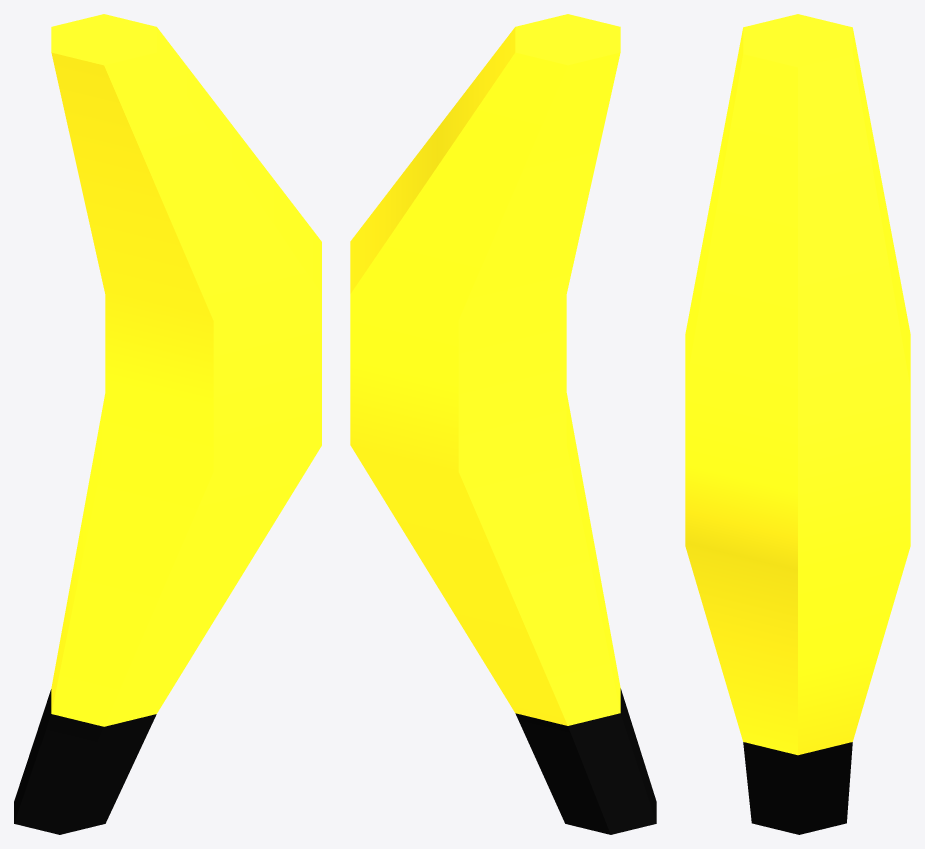
Rendered from Banana.fbx.
3 renders of one model, left to right at view 1: azimuth 30°, elevation 25°; view 2: azimuth 150°, elevation 25°; view 3: azimuth 270°, elevation 25°, orthographic. The views are drawn at different scales.
Visible parts, largest first — view 1: Cylinder; view 2: Cylinder; view 3: Cylinder.
Part boxes in pixels (x1,y1,x2,y2): Cylinder: [14, 14, 321, 834]; Cylinder: [350, 14, 656, 834]; Cylinder: [685, 14, 910, 834].
Bounding box in the file's own units: 82.19 × 195 × 50.19.
